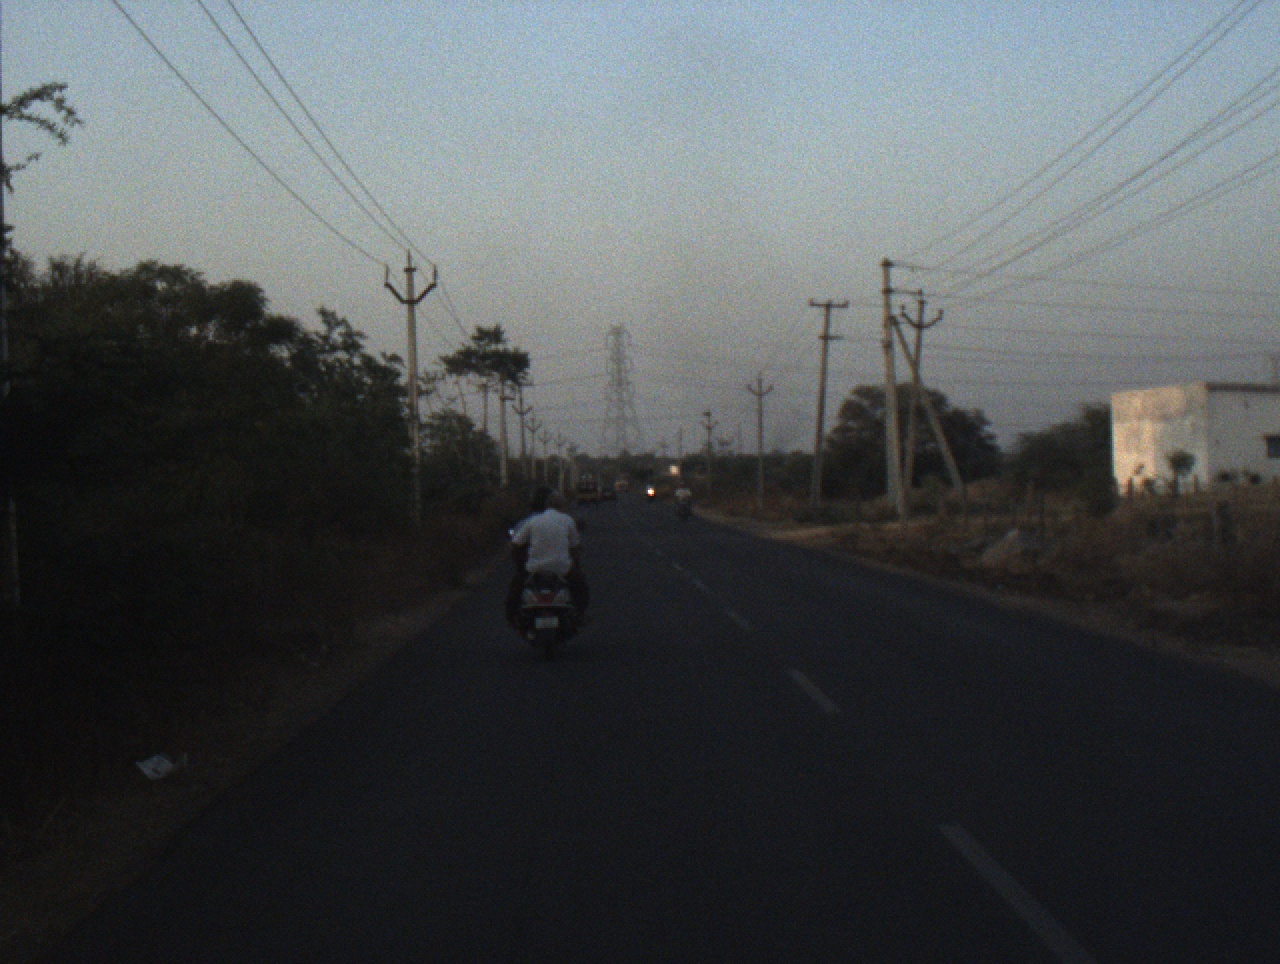autorickshaw: (567, 466, 605, 509), (609, 470, 631, 496)
car: (598, 482, 617, 501)
motorcycle: (506, 522, 594, 663), (671, 496, 696, 520)
rider: (505, 492, 591, 635), (521, 481, 555, 529), (676, 478, 694, 513)
vehicle fallback: (642, 473, 662, 505)
